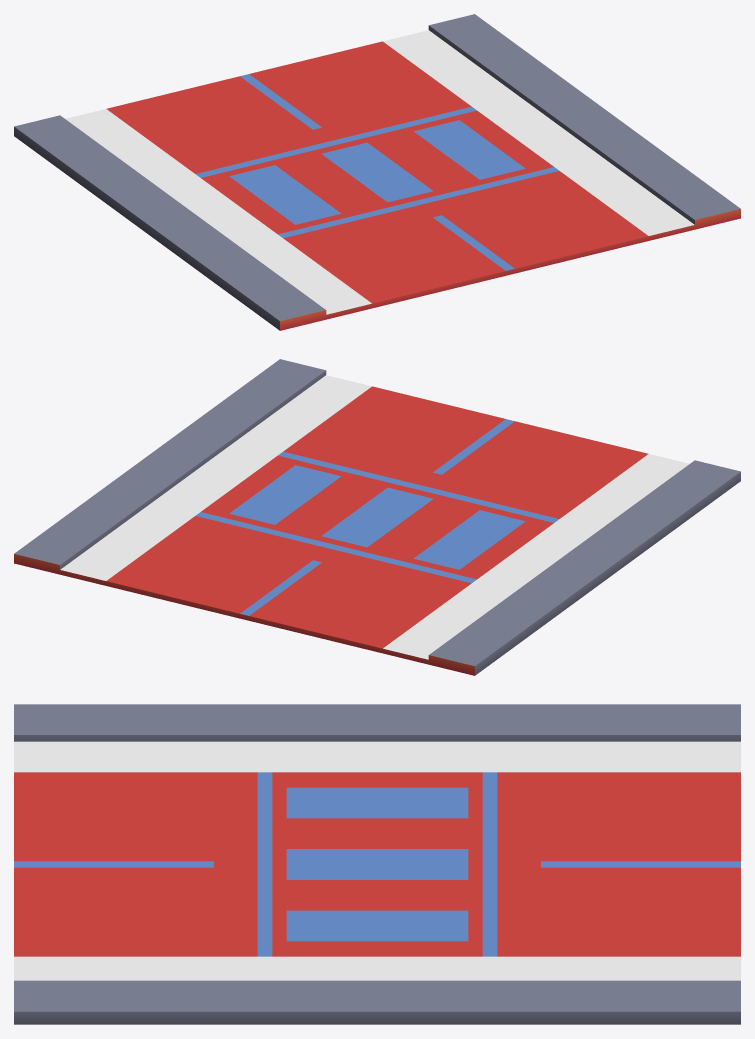
The model's file is Driving_Sim_Model_Crossing_Replace.fbx.
The picture shows the model from 3 angles, top to bottom: view 1: azimuth 30°, elevation 25°; view 2: azimuth 150°, elevation 25°; view 3: azimuth 270°, elevation 25°; orthographic projection. The views are drawn at different scales.
Visible parts, largest first — view 1: Crossing_replace; view 2: Crossing_replace; view 3: Crossing_replace.
Boxes of the visible parts, x1,y1,x2,y2 form: Crossing_replace: (14,14,740,330); Crossing_replace: (14,359,740,675); Crossing_replace: (14,704,740,1024).
Bounding box in the file's own units: 8 × 0.16 × 8.
